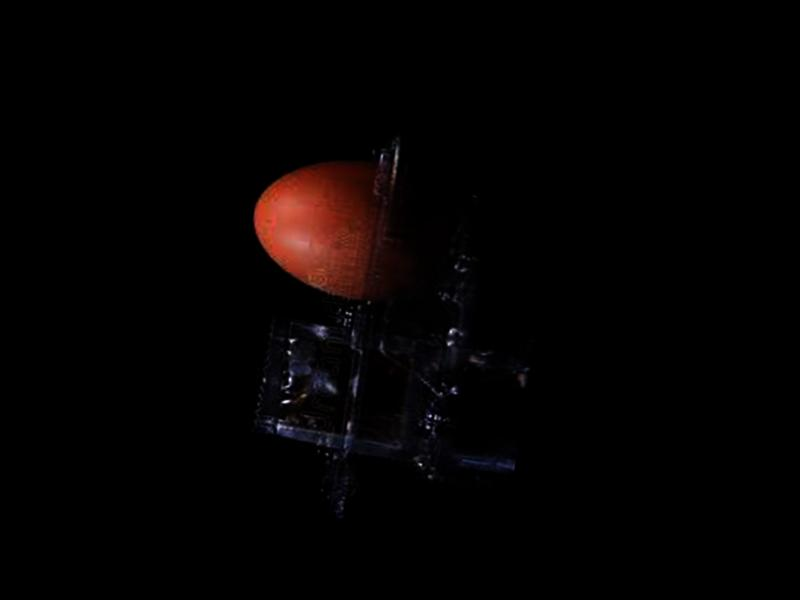Eggs: (243, 142, 468, 312)
